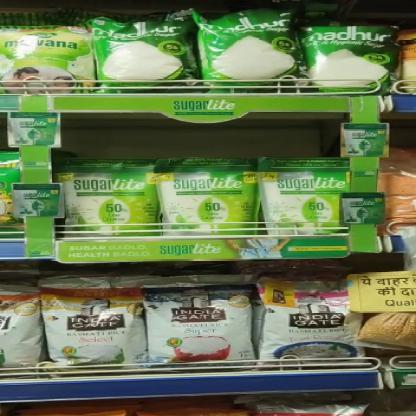SUGARLITE POUCH 500G: (161, 160, 253, 233), (263, 158, 351, 230)
